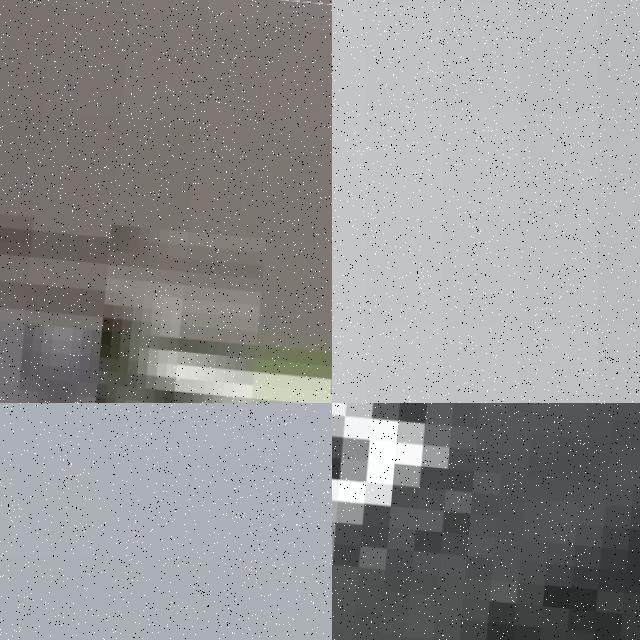0: (0, 0, 332, 403)
drone: (332, 403, 640, 640)
